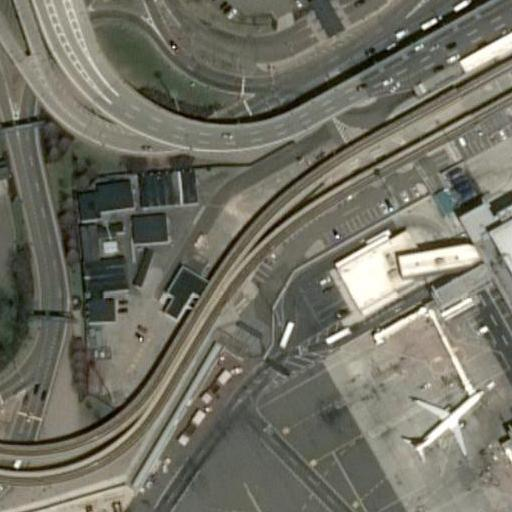Aircraft: (395, 378, 491, 459)
